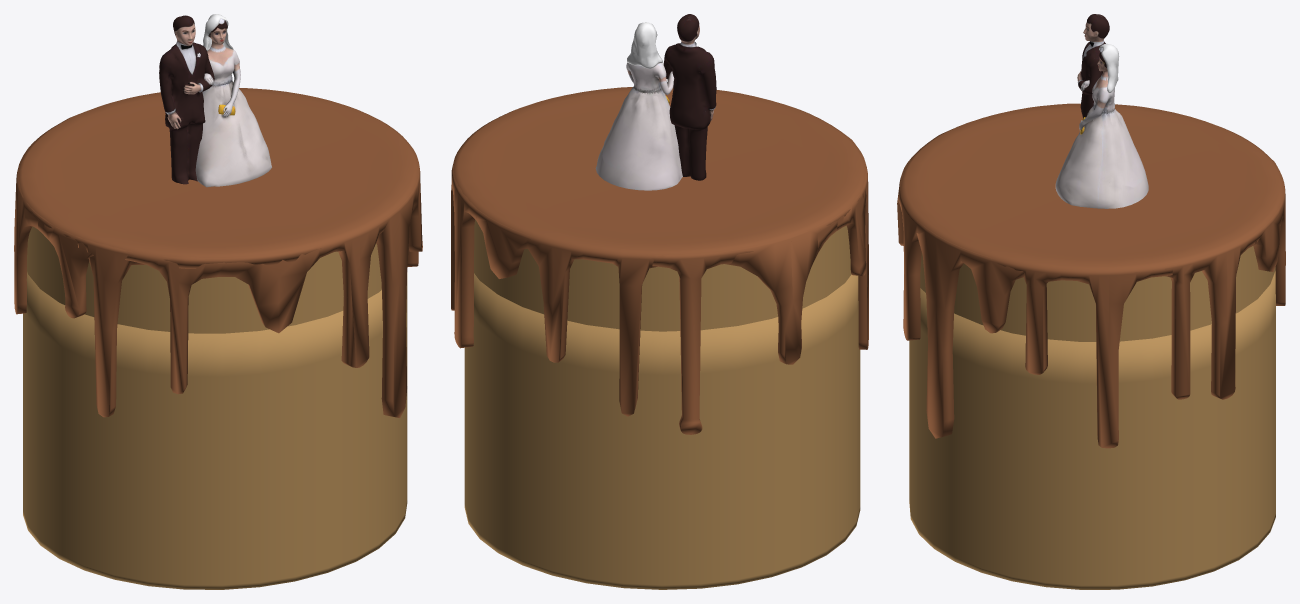
File: 1-tier-caramel-ganache-bridegroom.glb
3 views of the same model, side by side, from view 1: azimuth 30°, elevation 25°; view 2: azimuth 150°, elevation 25°; view 3: azimuth 270°, elevation 25° (orthographic). The views are drawn at different scales.
Visible parts, largest first — view 1: Cylinder.019, tHE ICING, 13501_Cake_Topper_Bride_Groom_v1_L1.004; view 2: Cylinder.019, tHE ICING, 13501_Cake_Topper_Bride_Groom_v1_L1.004; view 3: Cylinder.019, tHE ICING, 13501_Cake_Topper_Bride_Groom_v1_L1.004.
Boxes of the visible parts, bbox=[...] form: Cylinder.019: bbox=[23, 226, 407, 589]; tHE ICING: bbox=[14, 88, 422, 417]; 13501_Cake_Topper_Bride_Groom_v1_L1.004: bbox=[159, 14, 271, 187]; Cylinder.019: bbox=[464, 219, 860, 589]; tHE ICING: bbox=[451, 87, 868, 434]; 13501_Cake_Topper_Bride_Groom_v1_L1.004: bbox=[595, 14, 716, 190]; Cylinder.019: bbox=[909, 246, 1275, 589]; tHE ICING: bbox=[897, 103, 1285, 448]; 13501_Cake_Topper_Bride_Groom_v1_L1.004: bbox=[1055, 14, 1148, 208].
Size of the model in its own units: 2.8 by 3.7 by 2.71.
3 materials, 1 textured.
